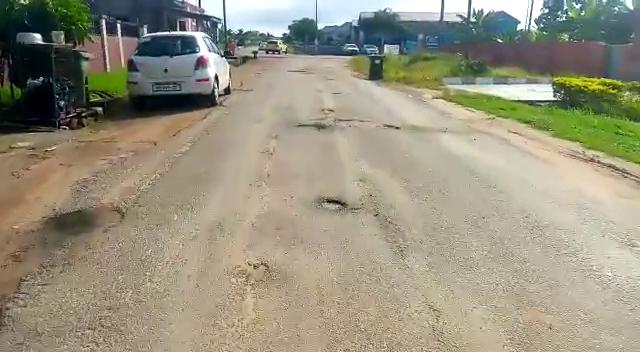pothole: (317, 197, 352, 214)
